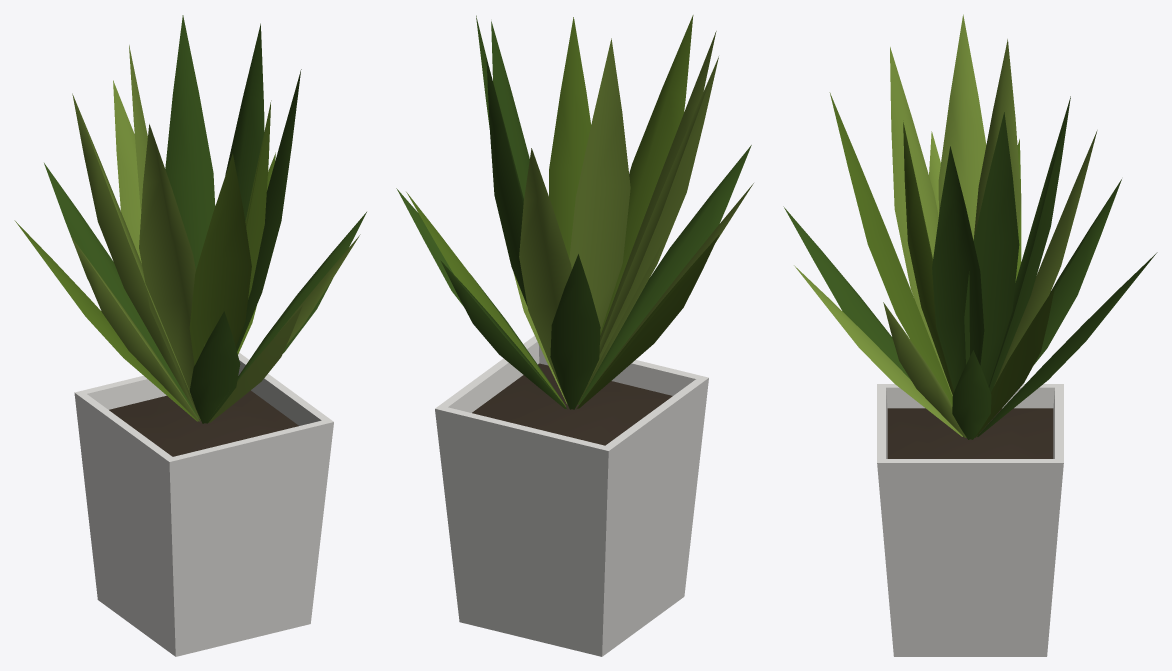
File: greenery.small-plant.glb
3 views of the same model, side by side, from view 1: azimuth 30°, elevation 25°; view 2: azimuth 150°, elevation 25°; view 3: azimuth 270°, elevation 25° (orthographic). The views are drawn at different scales.
Parts seen in each view (by area): view 1: greenery.small-plant.001; view 2: greenery.small-plant.001; view 3: greenery.small-plant.001.
Boxes of the visible parts, box(x1,y1,x2,y2) form: greenery.small-plant.001: box(14, 15, 366, 656); greenery.small-plant.001: box(396, 15, 753, 656); greenery.small-plant.001: box(783, 14, 1157, 656).
Size of the model in its own units: 0.255 by 0.42 by 0.255.
